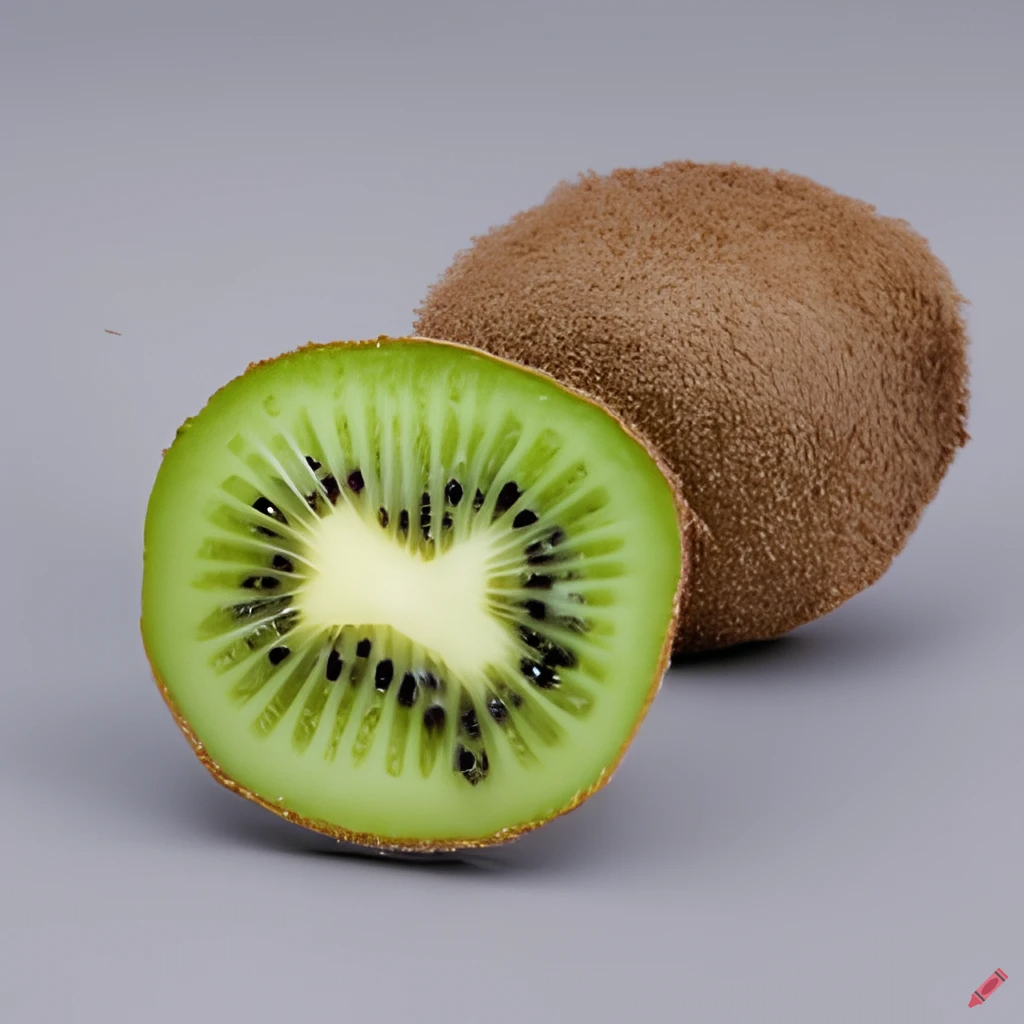Kiwi: (339, 141, 983, 685), (105, 338, 721, 844)
